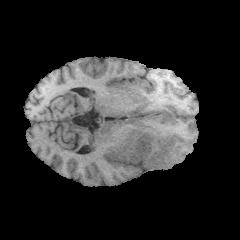glioma: (124, 112, 178, 168)
